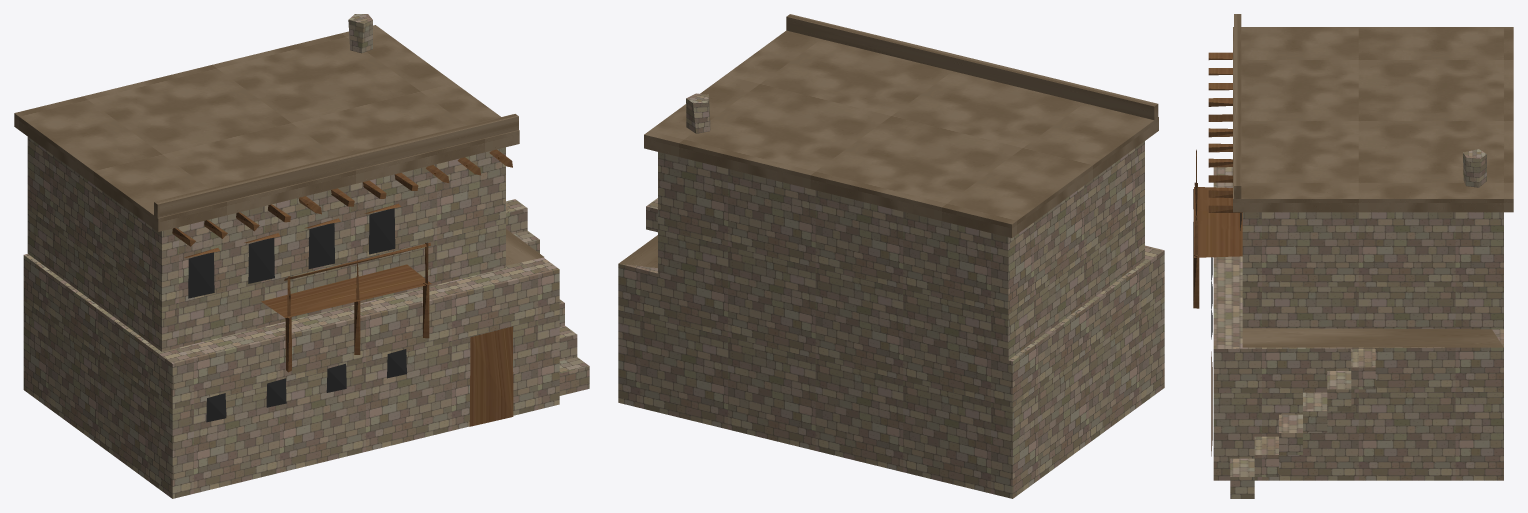
Rendered from house_saklya_large_lod1.glb.
3 views of the same model, side by side, from view 1: azimuth 30°, elevation 25°; view 2: azimuth 150°, elevation 25°; view 3: azimuth 270°, elevation 25° (orthographic). The views are drawn at different scales.
Parts seen in each view (by area): view 1: m; view 2: m; view 3: m.
Part boxes in pixels (x1,y1,x2,y2): m: (14,14,589,498); m: (618,14,1164,498); m: (1193,14,1513,498).
Bounding box in the file's own units: 10 × 6.74 × 6.62.
Materials: 4 (3 with a texture image).
